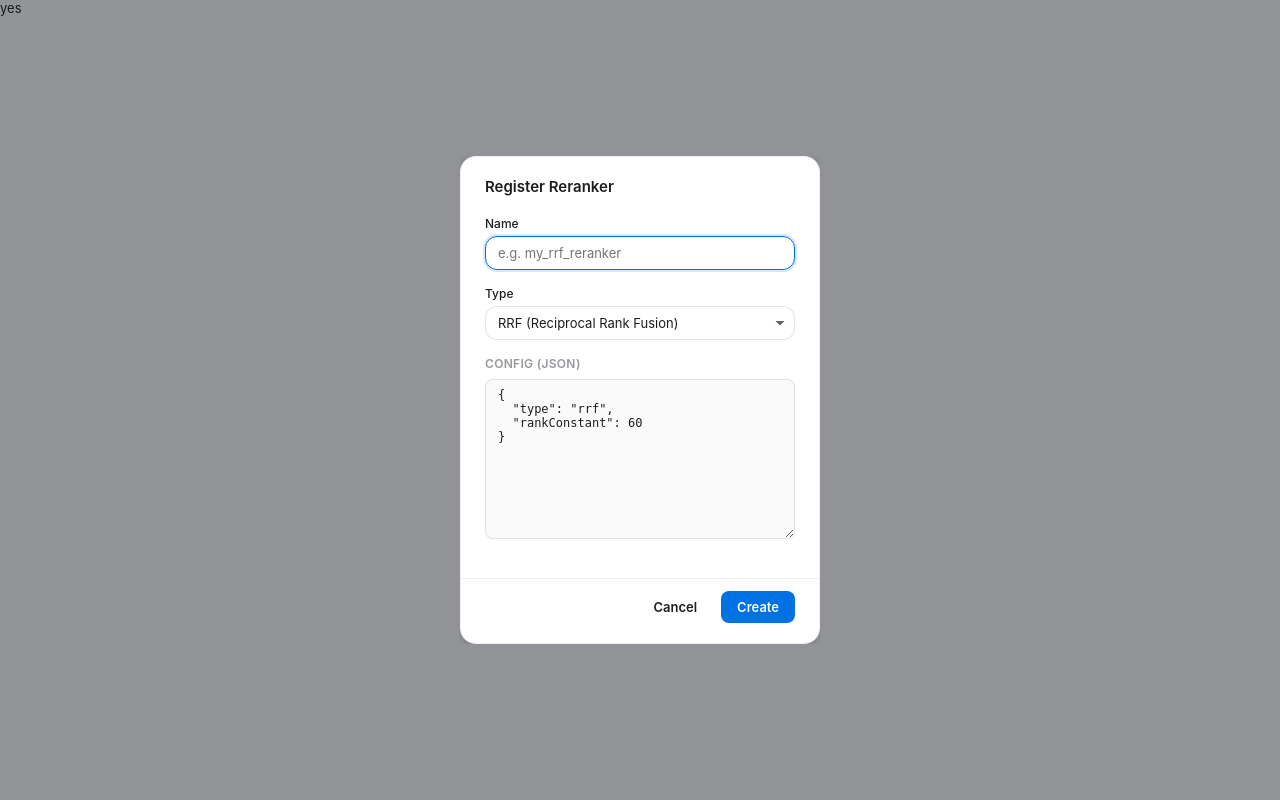
Test: CreateRerankerDialog › closes the dialog on successful creation
In the field labelled "Name": point(640, 253) [485,236,795,270], type "close-test"
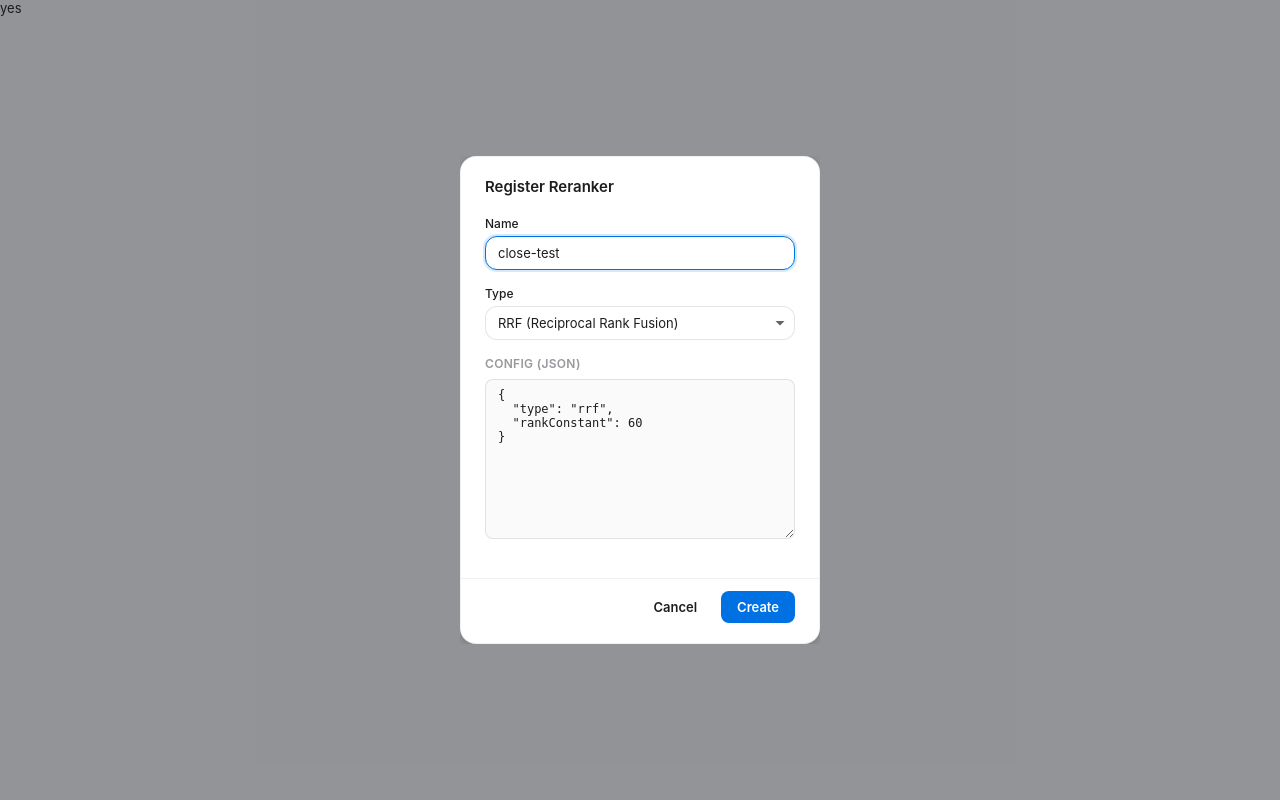
Click the button "Create": point(758, 607) [721,591,795,623]
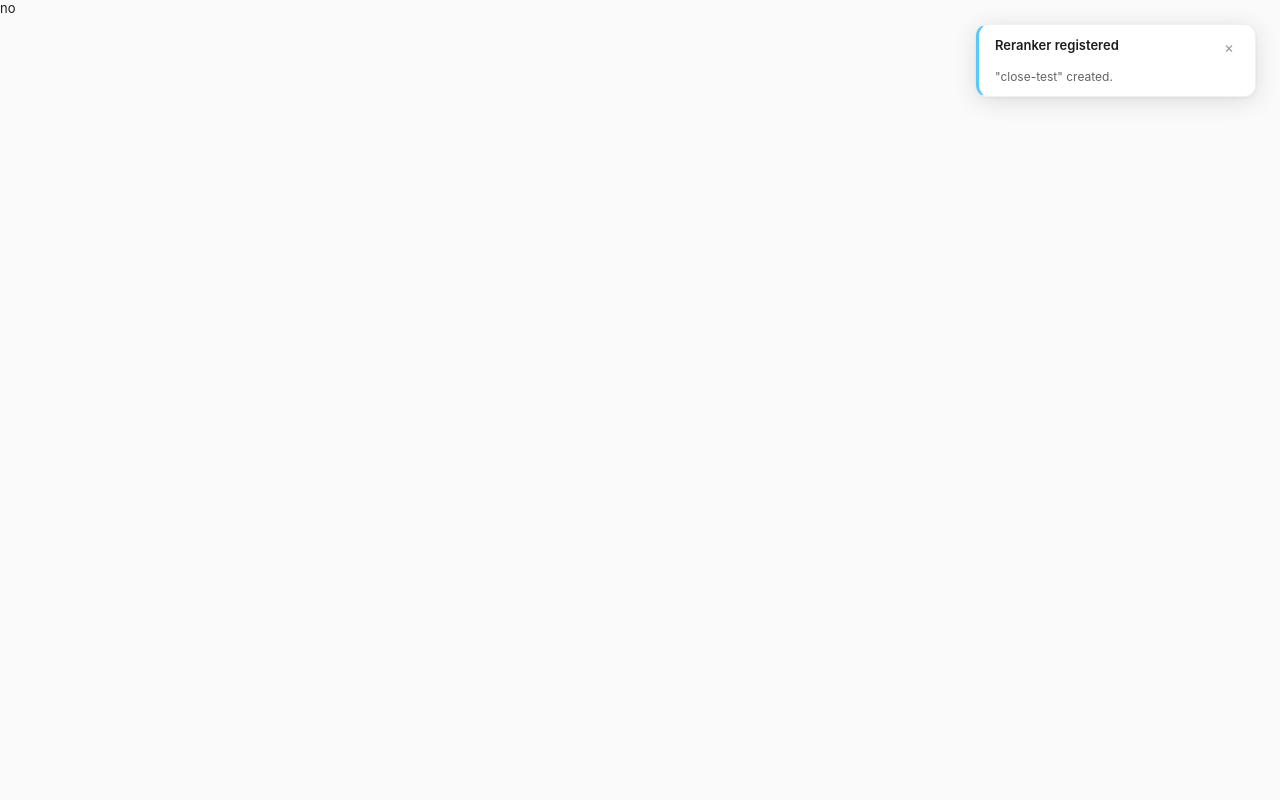
Result: the text with test id "harness-open" reads "no" at [0,0,16,16]
